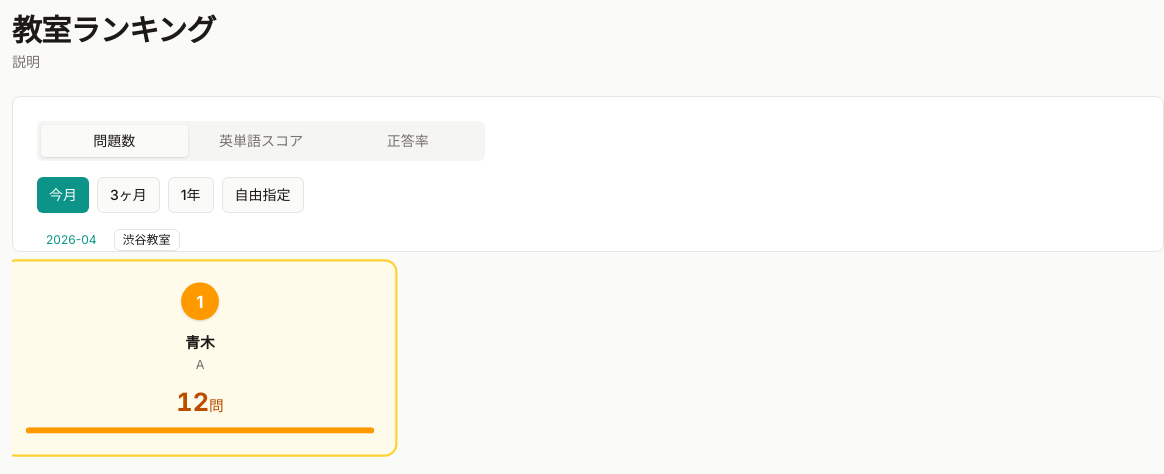
Test case: RankingPageClient › 今月・3ヶ月・1年の切り替えで再取得して期間表示を更新する
Check: the text "2026-04" is shown, box [37, 229, 106, 251]
Click the button "3ヶ月" at (128,195), box [97, 177, 160, 213]
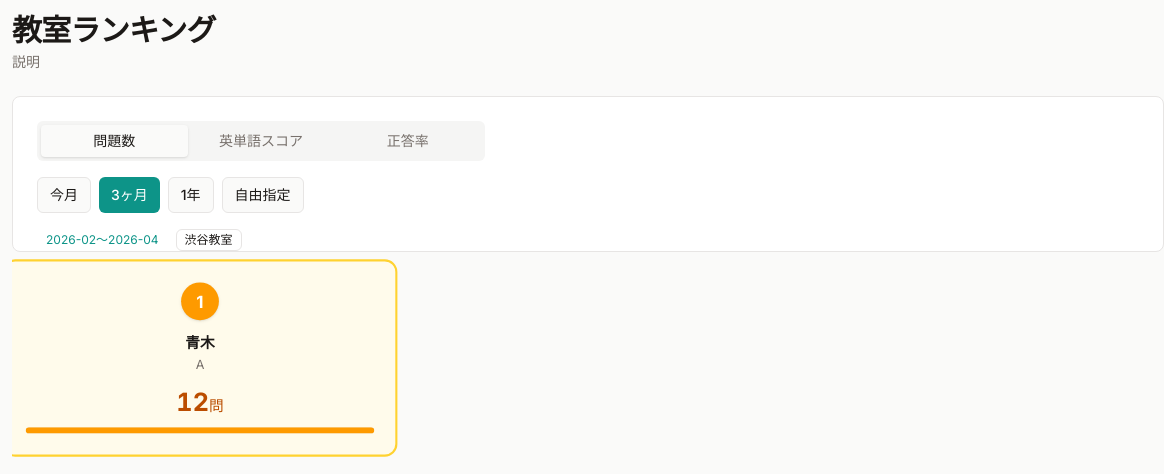
Check: the text "2026-02〜2026-04" is shown, box [37, 229, 168, 251]
Click the button "1年" at (191,195), box [168, 177, 214, 213]
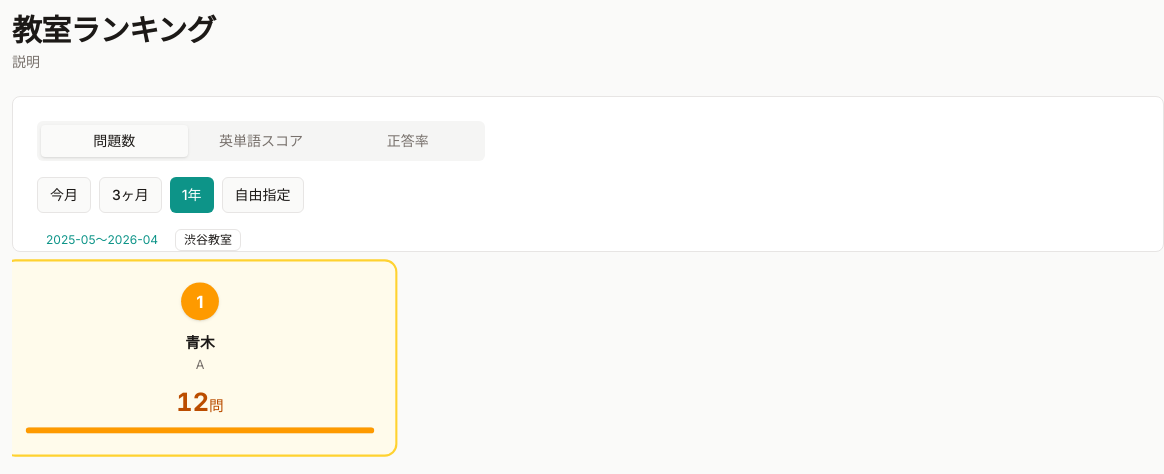
Check: the text "2025-05〜2026-04" is shown, box [37, 229, 167, 251]
